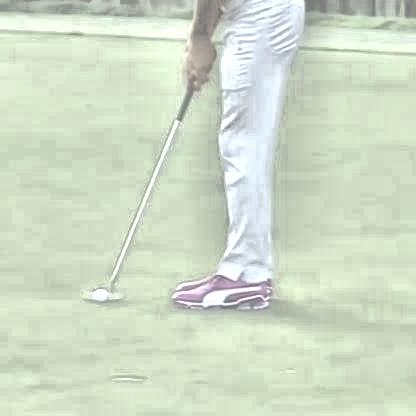golfball: (90, 288, 108, 301)
